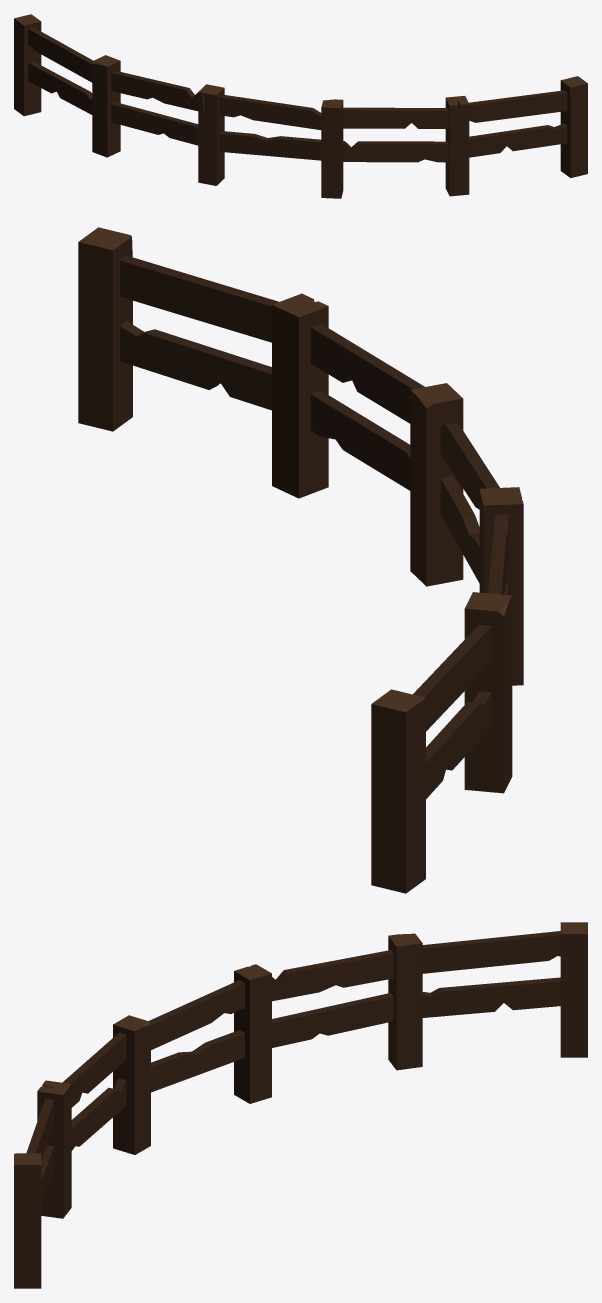
The model's file is Cave_Lair_Wooden_Timber_Fence_Corner_Large_01.fbx.
The picture shows the model from 3 angles, top to bottom: view 1: azimuth 30°, elevation 25°; view 2: azimuth 150°, elevation 25°; view 3: azimuth 270°, elevation 25°; orthographic projection. The views are drawn at different scales.
Visible parts, largest first — view 1: Cave_Lair_Wooden_Timber_Fence_Corner_Large_01; view 2: Cave_Lair_Wooden_Timber_Fence_Corner_Large_01; view 3: Cave_Lair_Wooden_Timber_Fence_Corner_Large_01.
Part boxes in pixels (left/top/right/bottom): Cave_Lair_Wooden_Timber_Fence_Corner_Large_01: left=14, top=14, right=587, bottom=198; Cave_Lair_Wooden_Timber_Fence_Corner_Large_01: left=78, top=227, right=523, bottom=893; Cave_Lair_Wooden_Timber_Fence_Corner_Large_01: left=14, top=922, right=587, bottom=1288.
Size of the model in its own units: 4.72 by 1.12 by 4.72.
